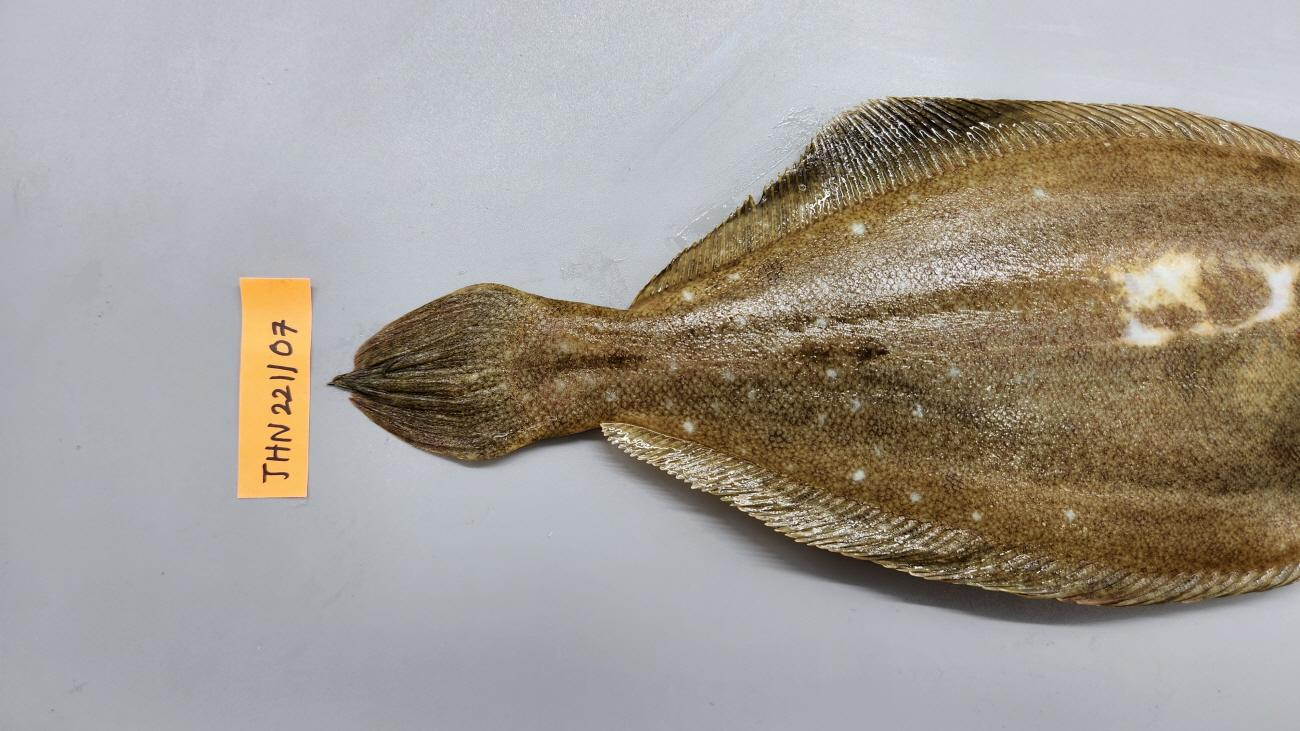POOUN: (329, 98, 1300, 616)
